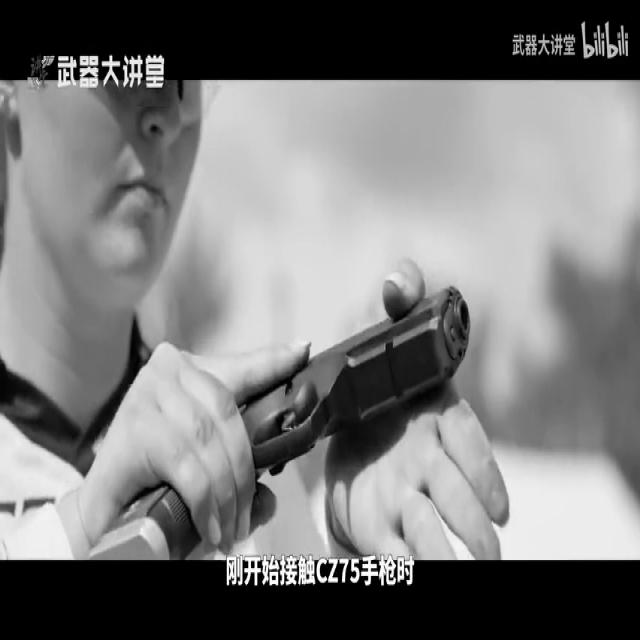Hand-Gun: (62, 235, 531, 640)
